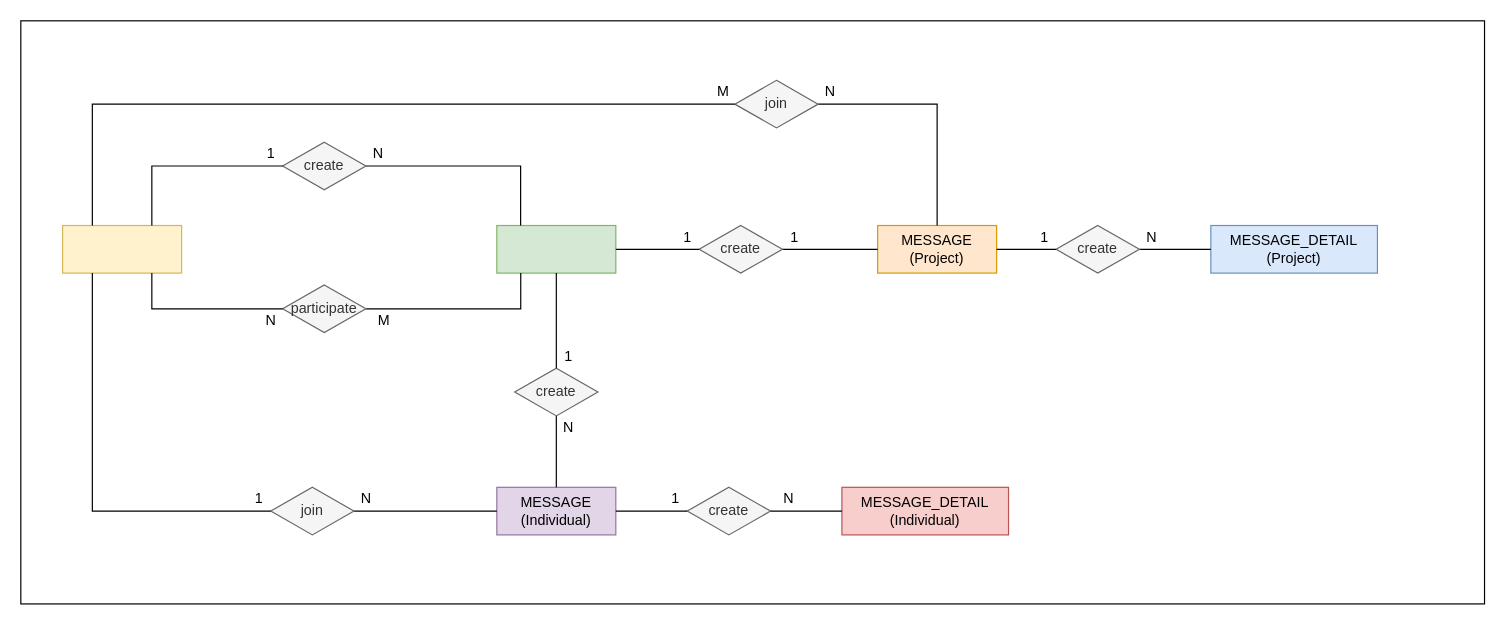
This 1505x625 diagram has some shape labels left out. Here are the shapes that lost their labels. From the top down, the centre of each, then its label:
At [121,248]: "USER".
At [556,248]: "PROJECT".
